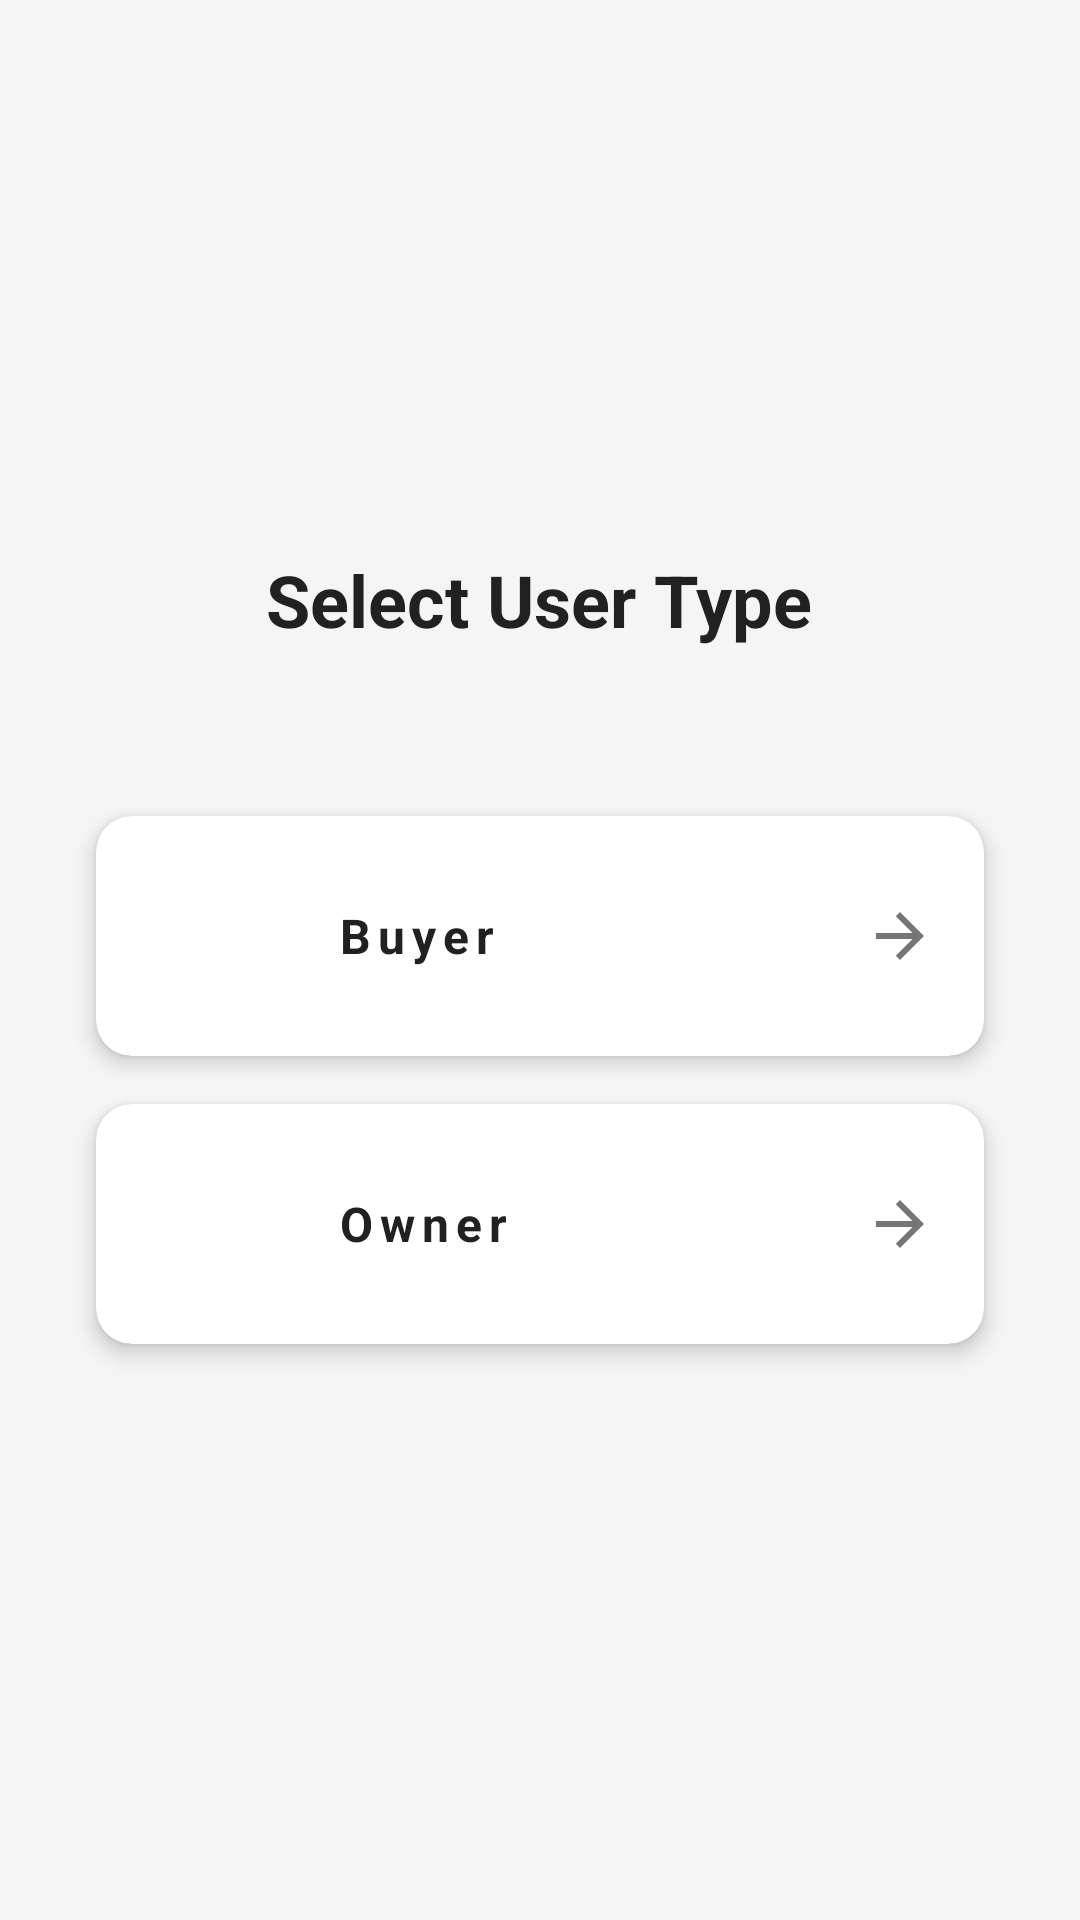

Where icons sit on this 1080 x 1920 app screen, as bbox=(x1, y1, x2, y2):
arrow forward: bbox=(876, 912, 924, 960), bbox=(876, 1200, 924, 1248)
